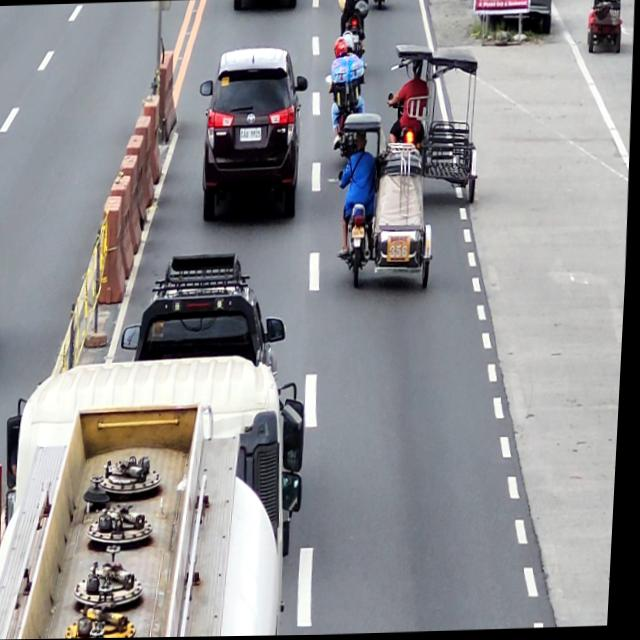Car: (121, 249, 294, 385), (196, 46, 313, 225)
License-Plate: (241, 127, 264, 141), (353, 226, 367, 239)
Motorcycle: (328, 71, 369, 162), (340, 4, 367, 65)
Tricycle: (335, 114, 441, 290), (386, 42, 486, 207)
Truck: (0, 351, 316, 640)
